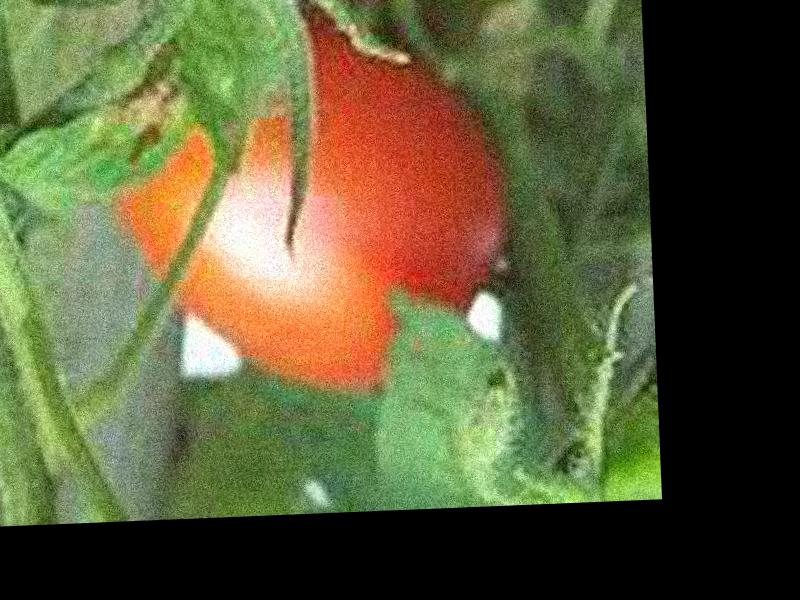Tomato: (116, 19, 511, 401)
